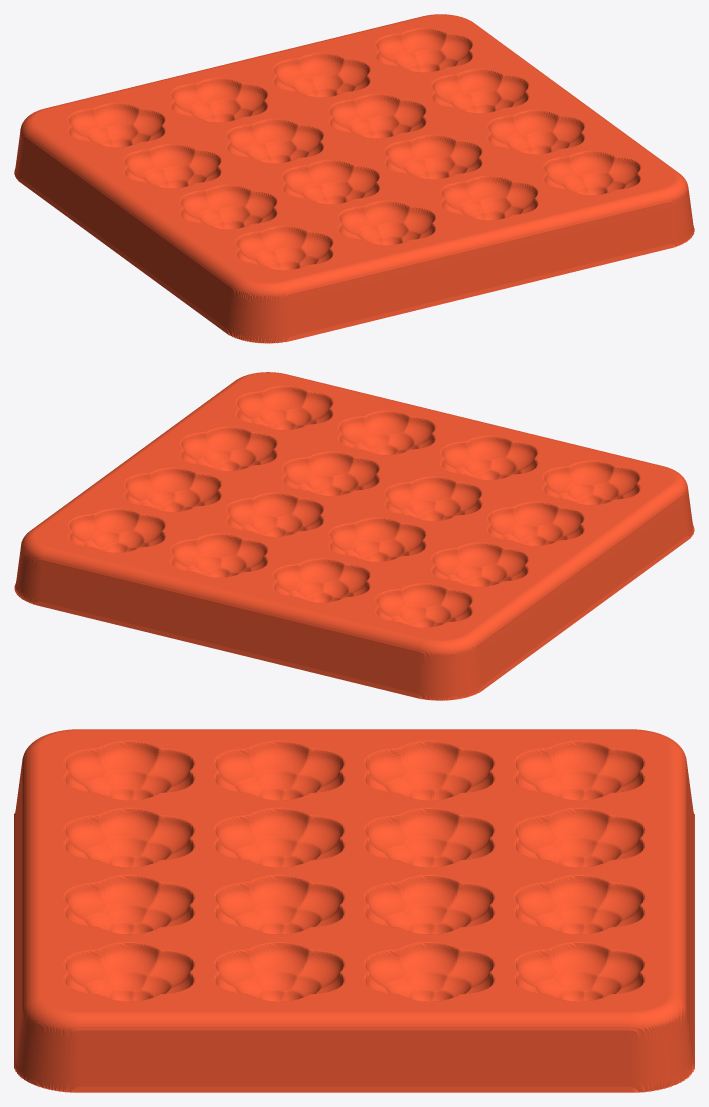
Rendered from mold.glb.
The picture shows the model from 3 angles, top to bottom: view 1: azimuth 30°, elevation 25°; view 2: azimuth 150°, elevation 25°; view 3: azimuth 270°, elevation 25°; orthographic projection. The views are drawn at different scales.
Parts seen in each view (by area): view 1: geometry_0; view 2: geometry_0; view 3: geometry_0.
Boxes of the visible parts, x1,y1,x2,y2 form: geometry_0: (14, 14, 694, 343); geometry_0: (14, 372, 694, 700); geometry_0: (14, 729, 694, 1092).
Bounding box in the file's own units: 0.0992 × 0.0108 × 0.0944.
